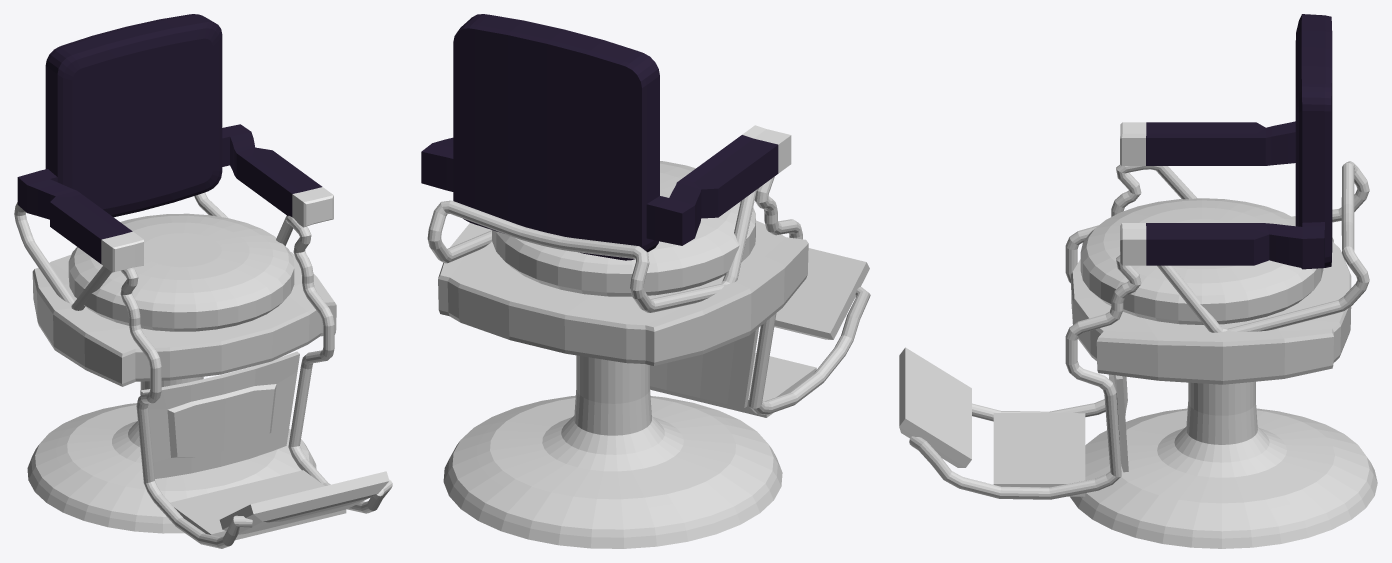
Rendered from Old Dental Chair.fbx.
3 views of the same model, side by side, from view 1: azimuth 30°, elevation 25°; view 2: azimuth 150°, elevation 25°; view 3: azimuth 270°, elevation 25° (orthographic). The views are drawn at different scales.
Visible parts, largest first — view 1: Cube.063, Cylinder.033, Cylinder.034, Cube.062, Cube.064, Plane.029, Cube.065, Cube.066; view 2: Cube.063, Cylinder.034, Cube.062, Plane.029, Cylinder.033, Cube.066, Cube.064, Cube.065; view 3: Cylinder.034, Cube.063, Cube.062, Cylinder.033, Plane.029, Cube.065, Cube.066, Cube.064.
Part boxes in pixels (x1,y1,x2,y2): Cube.063: (17,14,333,272); Cylinder.033: (68,213,294,331); Cylinder.034: (27,376,316,533); Cube.062: (32,251,336,386); Cube.064: (140,351,299,478); Plane.029: (14,192,392,548); Cube.065: (170,470,346,540); Cube.066: (219,471,389,534); Cube.063: (421,14,791,260); Cylinder.034: (443,355,782,548); Cube.062: (438,220,808,365); Plane.029: (427,176,870,414); Cylinder.033: (492,161,755,296); Cube.066: (774,248,869,339); Cube.064: (650,328,758,407); Cube.065: (650,352,816,417); Cylinder.034: (1070,381,1377,548); Cube.063: (1120,14,1332,269); Cube.062: (1071,237,1351,384); Cylinder.033: (1080,198,1323,324); Plane.029: (909,161,1369,499); Cube.065: (993,413,1085,496); Cube.066: (899,347,971,467); Cube.064: (1108,374,1128,472).
Bounding box in the file's own units: 89.91 × 140 × 138.
